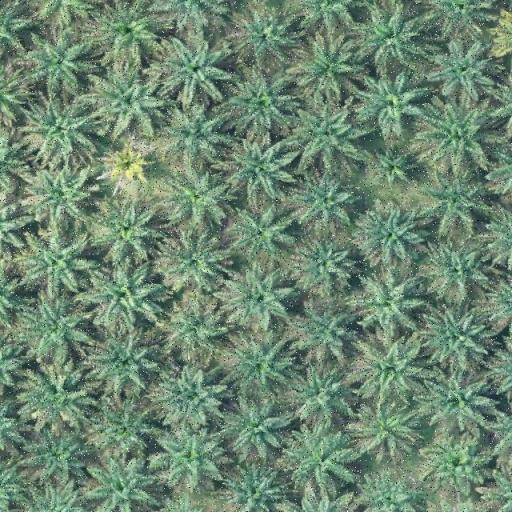Ganoderma: (106, 144, 152, 185)
